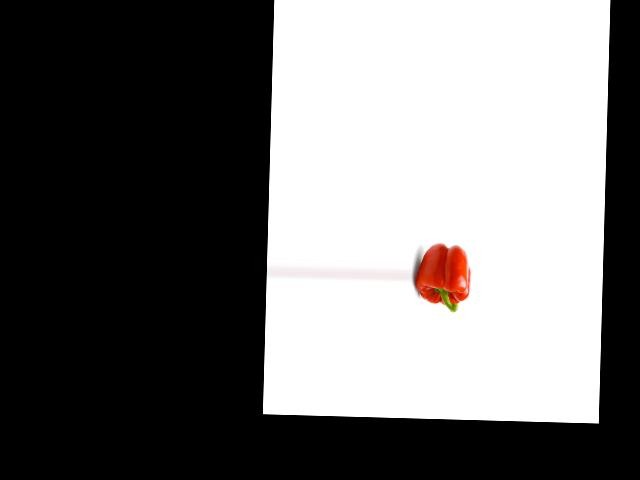bell_pepper: (415, 237, 471, 316)
